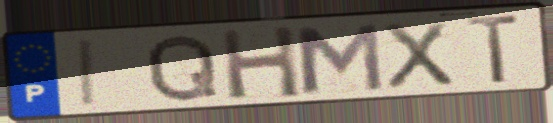H: (217, 23, 305, 102)
I: (78, 37, 100, 110)
M: (290, 20, 388, 95)
Q: (144, 32, 222, 105)
T: (464, 13, 524, 87)
X: (380, 18, 458, 91)
